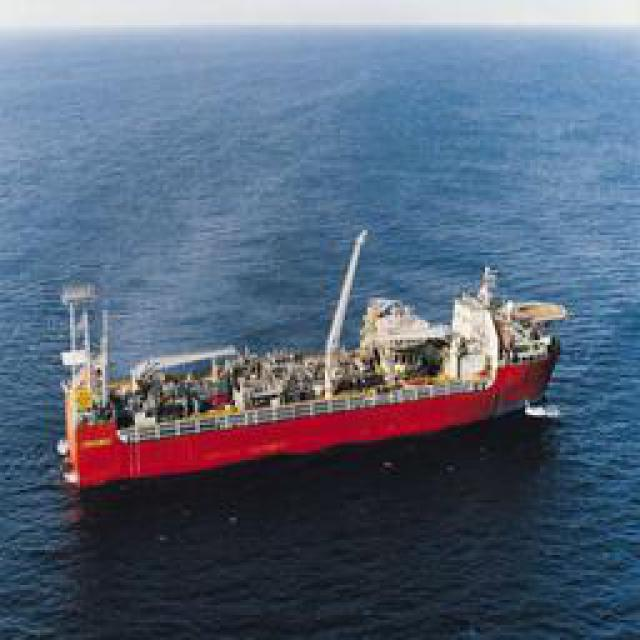Ship: (60, 244, 558, 519)
